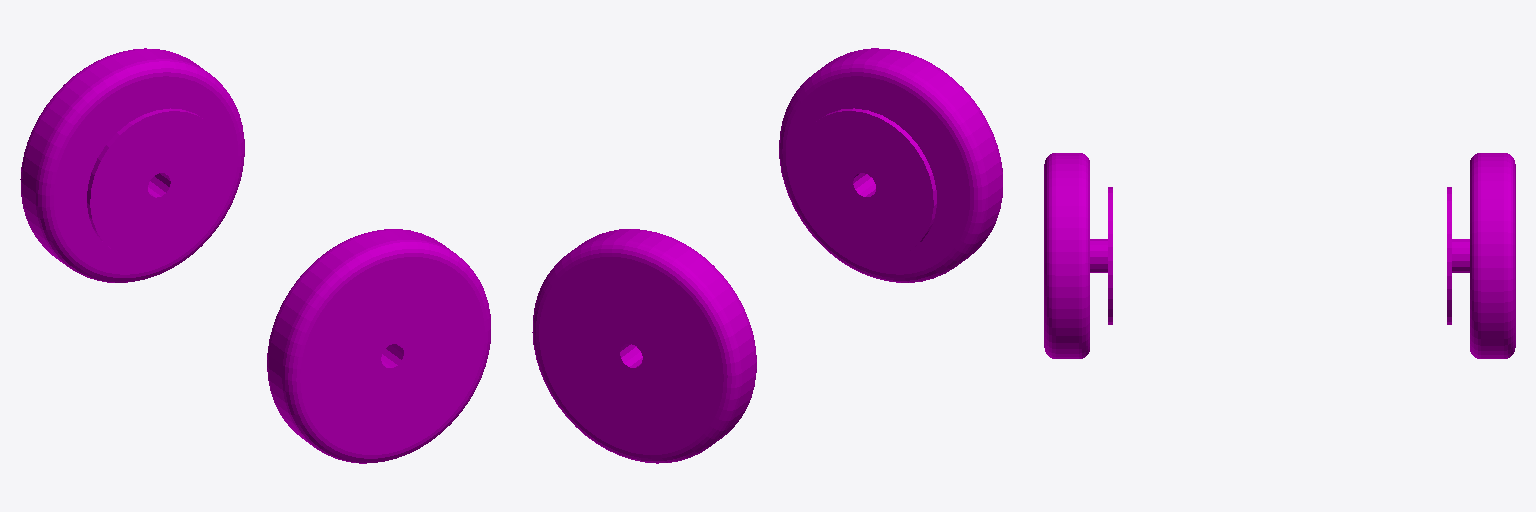
robot.urdf — tao:
<?xml version="1.0" ?>
<robot
  name="tao">
  <link
    name="base_link">
    <inertial>
      <origin
        xyz="-0.0304628441230635 -0.00806976210111034 0.0677603156177464"
        rpy="0 0 0" />
      <mass
        value="5.31447510419258" />
      <inertia
        ixx="0.037510282035635"
        ixy="0.00360898691377388"
        ixz="-0.000354641136394474"
        iyy="0.068379527279539"
        iyz="-0.000689529575521284"
        izz="0.0678647343908406" />
    </inertial>
    <visual>
      <origin
        xyz="0 0 0"
        rpy="0 0 0" />
      <geometry>
        <mesh
          filename="package://tao_description/meshes/base_link.STL" />
      </geometry>
      <material
        name="">
        <color
          rgba="0.8 0.8 0.8 1" />
      </material>
    </visual>
    <collision>
      <origin
        xyz="0 0 0"
        rpy="0 0 0" />
      <geometry>
        <mesh
          filename="package://tao_description/meshes/base_link.STL" />
      </geometry>
    </collision>
  </link>

<!--right_link-->
  <link
    name="right_link">
    <inertial>
      <origin
        xyz="3.3931E-15 -1.0478E-15 0.037867"
        rpy="0 0 0" />
      <mass
        value="1.0425" />
      <inertia
        ixx="0"
        ixy="0"
        ixz="0"
        iyy="0"
        iyz="0"
        izz="0" />
    </inertial>
    <visual>
      <origin
        xyz="0 0 0"
        rpy="0 0 0" />
      <geometry>
        <mesh
          filename="package://tao_description/meshes/right_link.STL" />
      </geometry>
      <material
        name="">
        <color
          rgba="0.8 0 0.8 1" />
      </material>
    </visual>
    <collision>
      <origin
        xyz="0 0 0"
        rpy="0 0 0" />
      <geometry>
        <mesh
          filename="package://tao_description/meshes/right_link.STL" />
      </geometry>
    </collision>
  </link>
  <joint
    name="right_joint"
    type="revolute">
    <origin
      xyz="0 -0.145 0.028"
      rpy="1.5708 1.2246E-16 -7.3956E-32" />
    <parent
      link="base_link" />
    <child
      link="right_link" />
    <axis
      xyz="0 0 1" />
    <limit
      effort="0"
      velocity="0" />
  </joint>

<!--left_link-->
  <link
    name="left_link">
    <inertial>
      <origin
        xyz="-3.008E-15 -7.9103E-16 0.037867"
        rpy="0 0 0" />
      <mass
        value="1.0425" />
      <inertia
        ixx="0"
        ixy="0"
        ixz="0"
        iyy="0"
        iyz="0"
        izz="0" />
    </inertial>
    <visual>
      <origin
        xyz="0 0 0"
        rpy="0 0 0" />
      <geometry>
        <mesh
          filename="package://tao_description/meshes/left_link.STL" />
      </geometry>
      <material
        name="">
        <color
          rgba="0.8 0 0.8 1" />
      </material>
    </visual>
    <collision>
      <origin
        xyz="0 0 0"
        rpy="0 0 0" />
      <geometry>
        <mesh
          filename="package://tao_description/meshes/left_link.STL" />
      </geometry>
    </collision>
  </link>
  <joint
    name="left_joint"
    type="revolute">
    <origin
      xyz="0 0.145 0.028"
      rpy="1.5708 -1.2246E-16 3.1416" />
    <parent
      link="base_link" />
    <child
      link="left_link" />
    <axis
      xyz="0 0 -1" />
    <limit
      effort="0"
      velocity="0" />
  </joint>

<!--laser_link-->
  <link
    name="laser_link">
    <inertial>
      <origin
        xyz="0.012167 -0.00037596 -0.028765"
        rpy="0 0 0" />
      <mass
        value="0.073084" />
      <inertia
        ixx="1.2137E-05"
        ixy="-7.1173E-07"
        ixz="6.9567E-06"
        iyy="3.7392E-05"
        iyz="4.3085E-07"
        izz="3.0595E-05" />
    </inertial>
    <visual>
      <origin
        xyz="0 0 0"
        rpy="0 0 0" />
      <geometry>
        <mesh
          filename="package://tao_description/meshes/laser_link.STL" />
      </geometry>
      <material
        name="">
        <color
          rgba="128 0 0 0.9" />
      </material>
    </visual>
    <collision>
      <origin
        xyz="0 0 0"
        rpy="0 0 0" />
      <geometry>
        <mesh
          filename="package://tao_description/meshes/laser_link.STL" />
      </geometry>
    </collision>
  </link>
  <joint
    name="laser_joint"
    type="fixed">
    <origin
      xyz="0.16319 0.0013567 0.1855"
      rpy="-5.4448E-33 -4.8363E-35 -2.6055E-17" />
    <parent
      link="base_link" />
    <child
      link="laser_link" />
    <axis
      xyz="0 0 1" />
  </joint>
</robot>

--- Render facts (derived) ---
3 views of the same robot in one strip: view 1: azimuth 30°, elevation 25°; view 2: azimuth 150°, elevation 25°; view 3: azimuth 270°, elevation 25° (orthographic).
Robot: tao — 4 links, 3 joints (2 revolute, 1 fixed); root link base_link; default pose: every joint at zero.
Links seen in each view (by area): view 1: right_link, left_link; view 2: right_link, left_link; view 3: right_link, left_link.
Link boxes in pixels (x1,y1,x2,y2): right_link: (267,229,490,463); left_link: (20,48,244,282); right_link: (779,48,1002,282); left_link: (532,229,756,463); right_link: (1044,153,1112,358); left_link: (1447,153,1515,358).
Size in the robot's own frame: 0.18 by 0.41 by 0.1799 metres.
2 mesh visuals loaded from 4 distinct referenced files (2 binary STL); not drawn: 2 (reference not matched to a file when rendering).